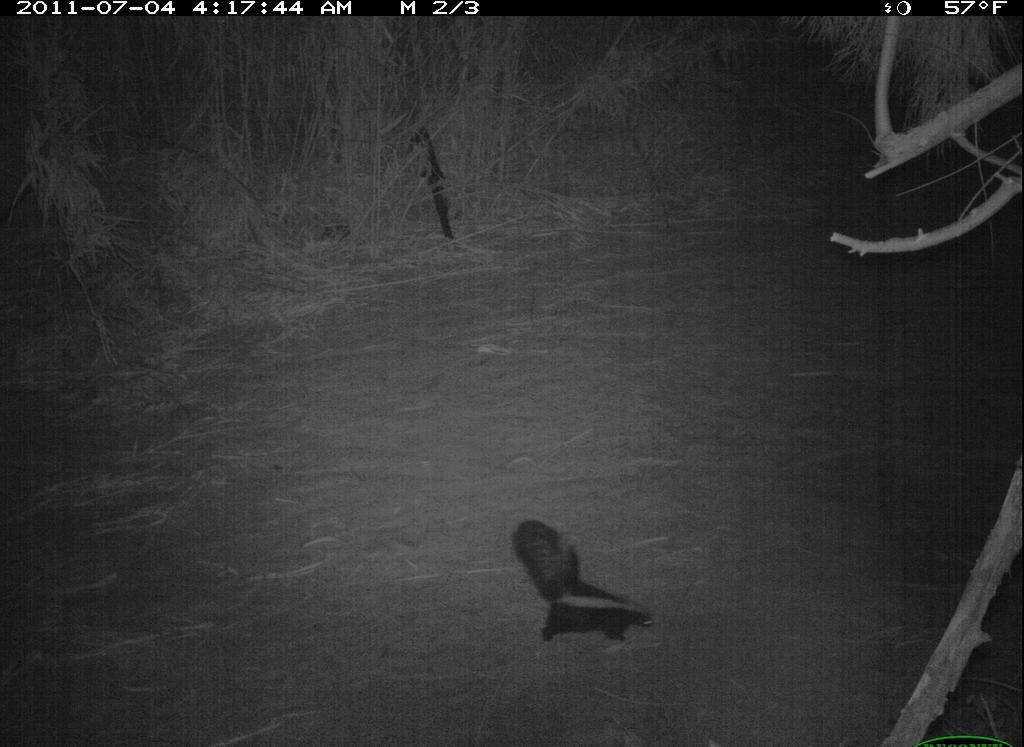skunk: (489, 502, 679, 667)
